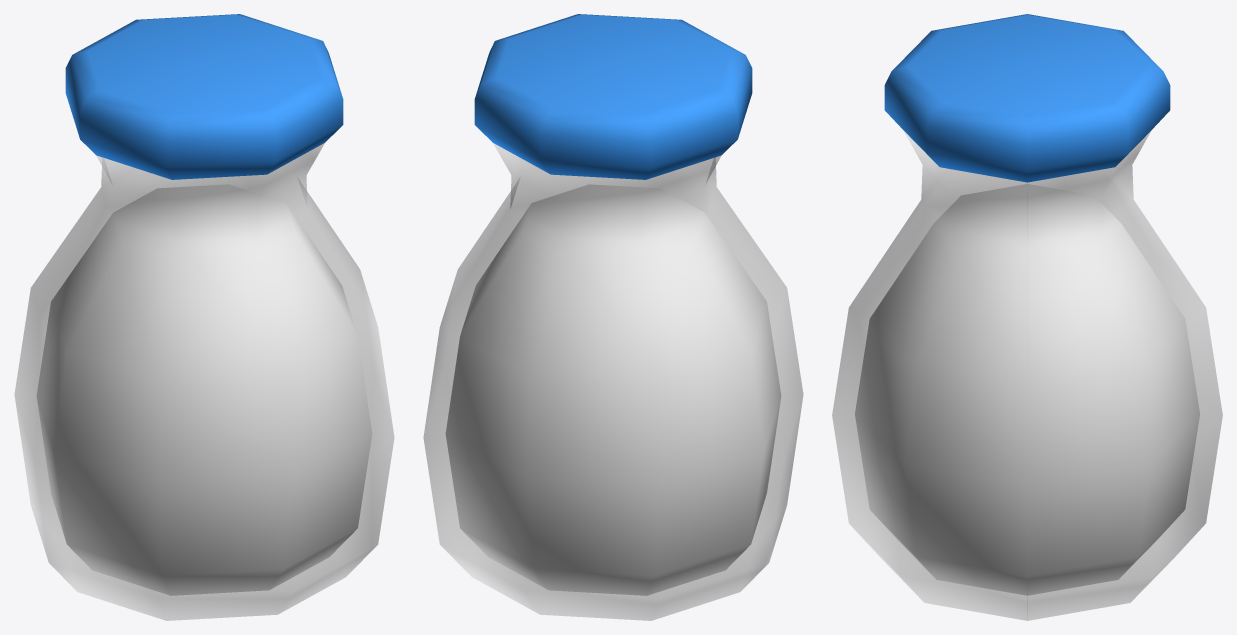
File: Farm_Animal_Product_Milk.fbx
The picture shows the model from 3 angles, left to right: view 1: azimuth 30°, elevation 25°; view 2: azimuth 150°, elevation 25°; view 3: azimuth 270°, elevation 25°; orthographic projection.
Parts seen in each view (by area): view 1: Farm_Animal_Product_Milk; view 2: Farm_Animal_Product_Milk; view 3: Farm_Animal_Product_Milk.
Boxes of the visible parts, x1=… form: Farm_Animal_Product_Milk: x1=14, y1=14, x2=394, y2=620; Farm_Animal_Product_Milk: x1=423, y1=14, x2=803, y2=620; Farm_Animal_Product_Milk: x1=832, y1=14, x2=1222, y2=620.
Bounding box in the file's own units: 36.17 × 50.39 × 36.17.
